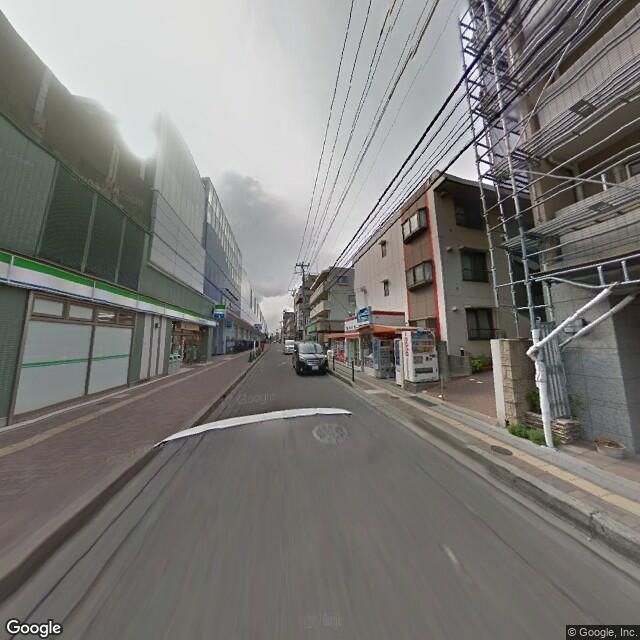family_mart: (1, 249, 216, 331), (212, 302, 225, 320)
